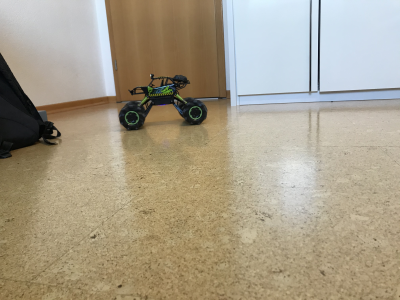remote control car: (113, 71, 211, 132)
